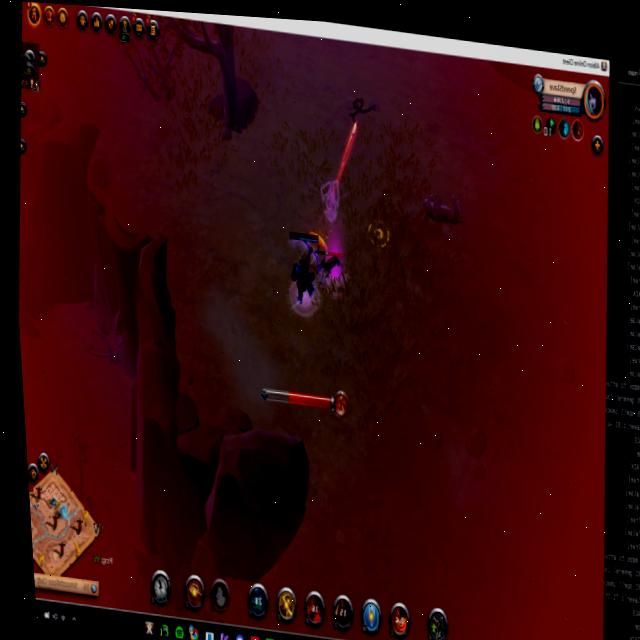mob: (418, 183, 467, 227)
ore: (312, 242, 348, 294)
red: (282, 226, 327, 317)
